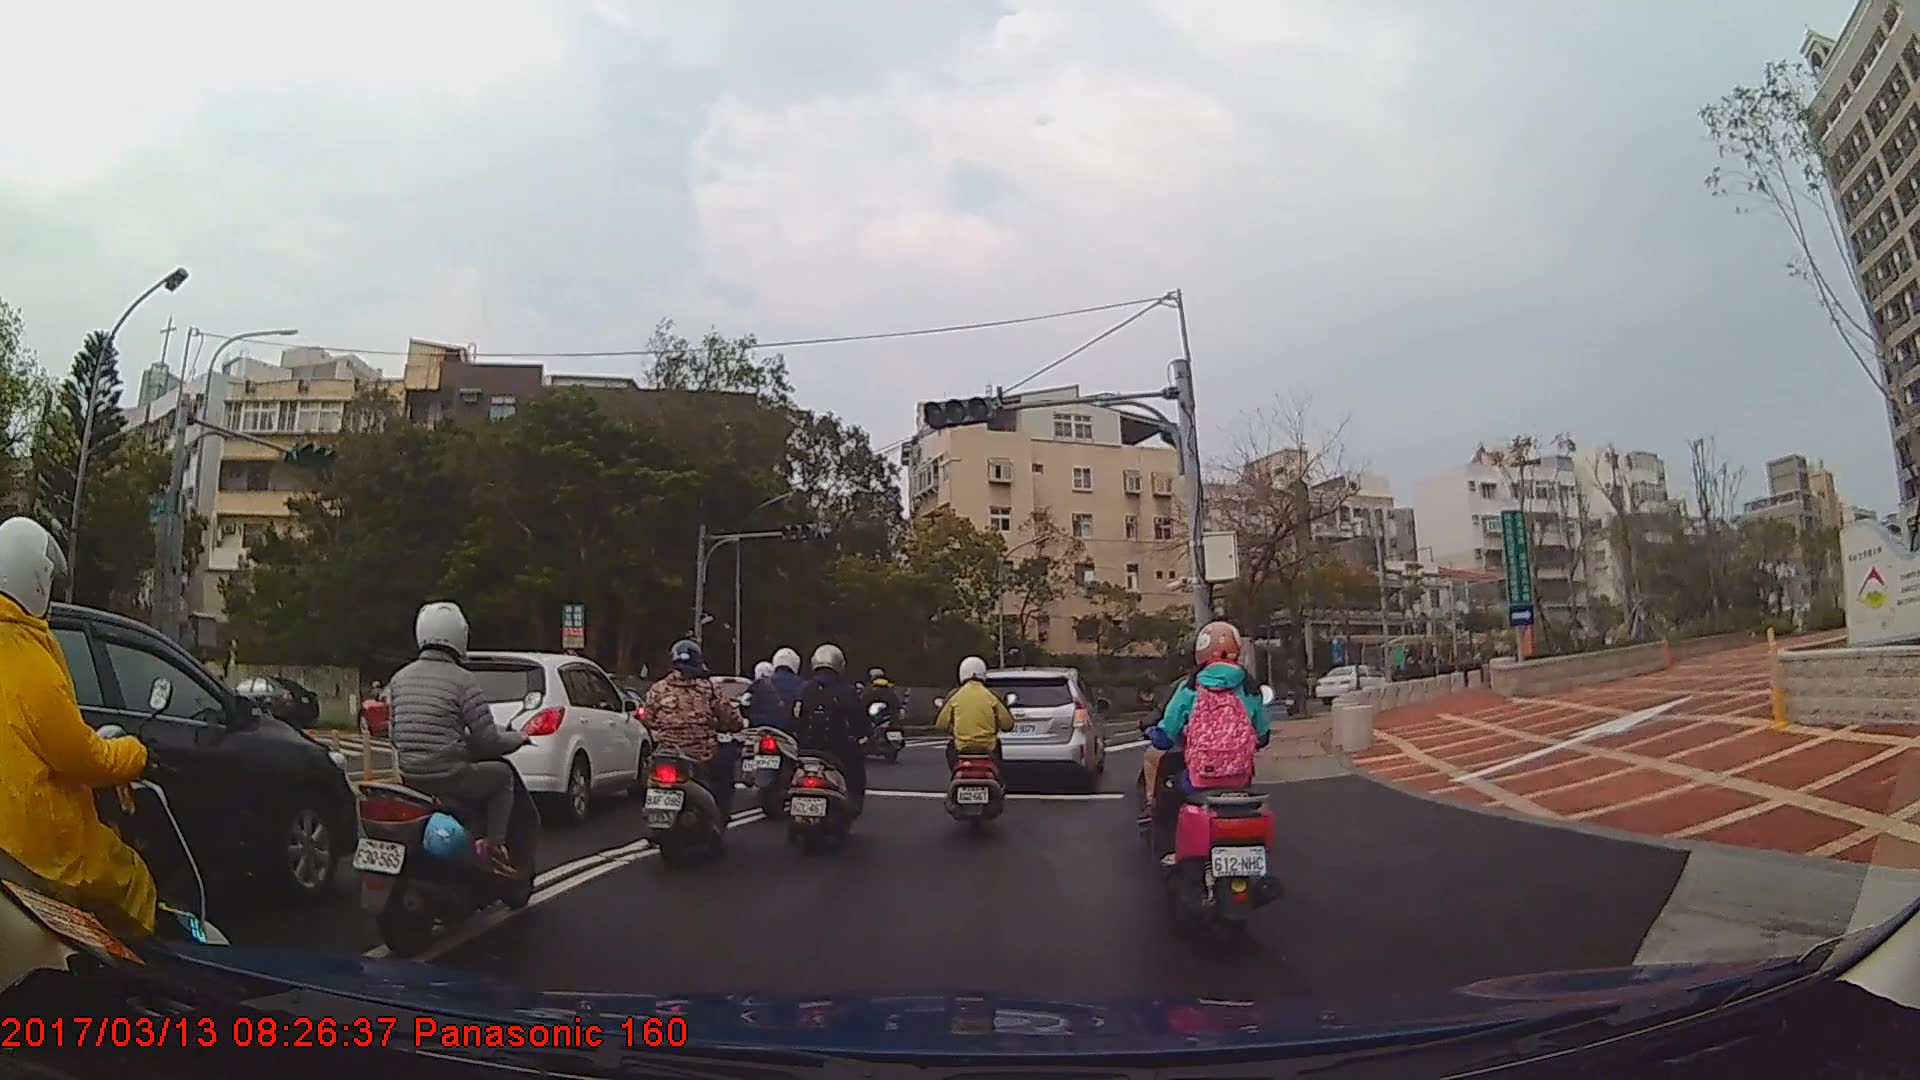rider: (1, 516, 227, 1043), (357, 600, 550, 955), (1148, 619, 1277, 927), (635, 641, 751, 875), (780, 643, 876, 857), (932, 660, 1022, 833), (746, 646, 819, 817), (736, 665, 795, 804), (848, 667, 912, 766)
vehicle: (0, 596, 356, 934), (397, 650, 653, 827), (963, 666, 1104, 788), (214, 674, 318, 731), (356, 677, 458, 734), (1316, 664, 1388, 706)
